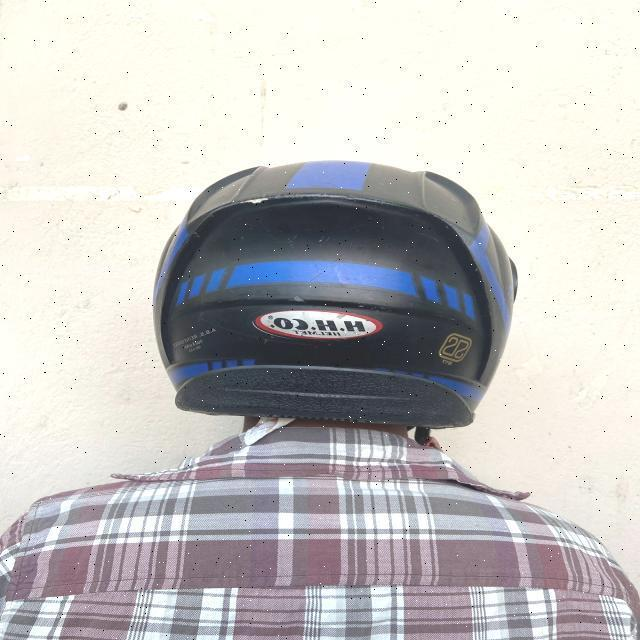helmet: (150, 156, 516, 448)
